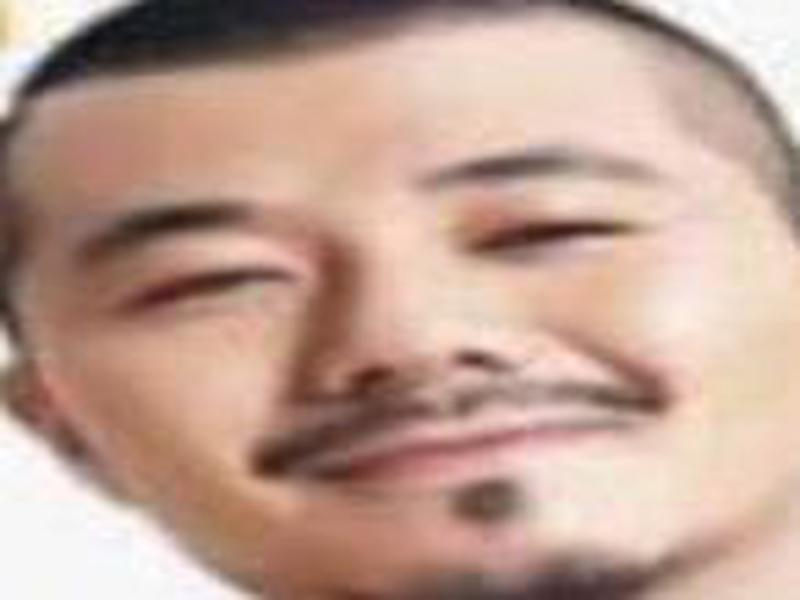without_mask: (6, 51, 776, 589)
